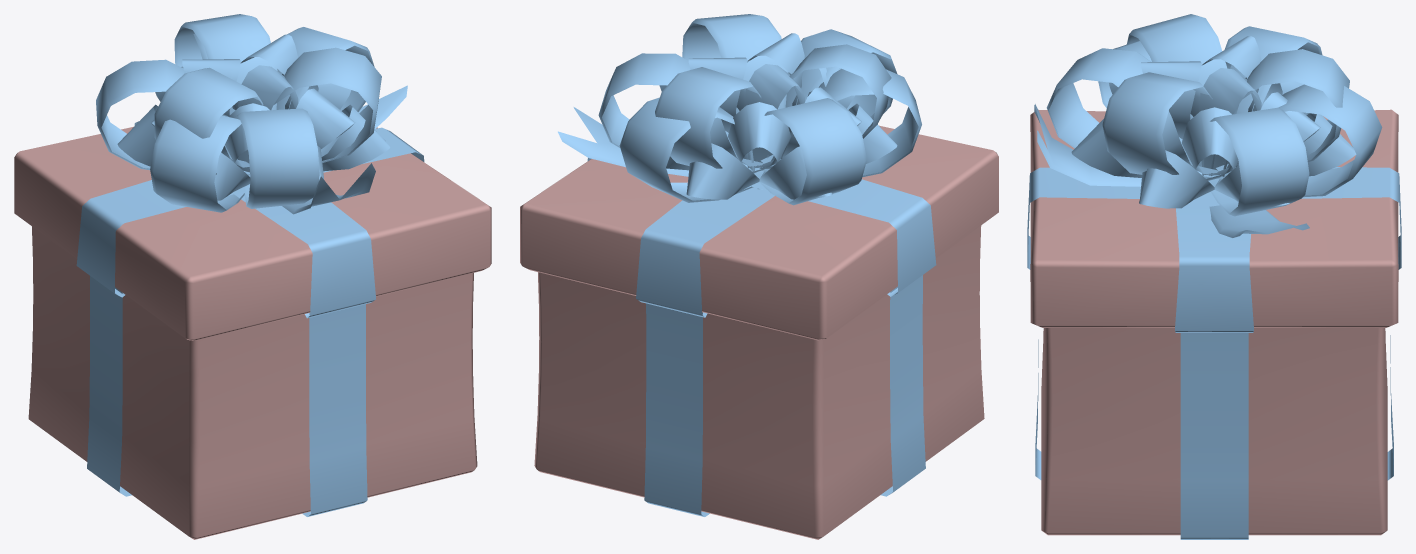
File: giftBox.fbx
The picture shows the model from 3 angles, left to right: view 1: azimuth 30°, elevation 25°; view 2: azimuth 150°, elevation 25°; view 3: azimuth 270°, elevation 25°; orthographic projection. The views are drawn at different scales.
Visible parts, largest first — view 1: Present_Box, Present_Lid, Bow_A, Bow_C, Bow_B; view 2: Present_Box, Present_Lid, Bow_A, Bow_C, Bow_B; view 3: Present_Box, Present_Lid, Bow_A, Bow_C, Bow_B.
Part boxes in pixels (x1,y1,x2,y2): Present_Box: (28,226,477,539); Present_Lid: (14,121,491,340); Bow_A: (96,14,381,208); Bow_C: (117,34,390,200); Bow_B: (150,33,407,214); Present_Box: (534,225,984,539); Present_Lid: (520,124,998,340); Bow_A: (598,14,897,205); Bow_C: (659,33,897,199); Bow_B: (558,68,921,202); Present_Box: (1035,328,1393,539); Present_Lid: (1027,109,1401,332); Bow_A: (1046,14,1349,216); Bow_C: (1071,36,1356,208); Bow_B: (1034,41,1382,237).
Size of the model in its own units: 54.15 by 63.39 by 51.61.
